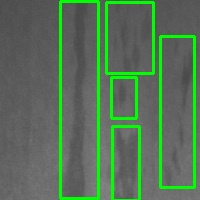inclusion: (60, 1, 98, 198), (160, 36, 194, 187), (106, 2, 153, 73), (112, 126, 139, 200), (111, 77, 136, 118)
